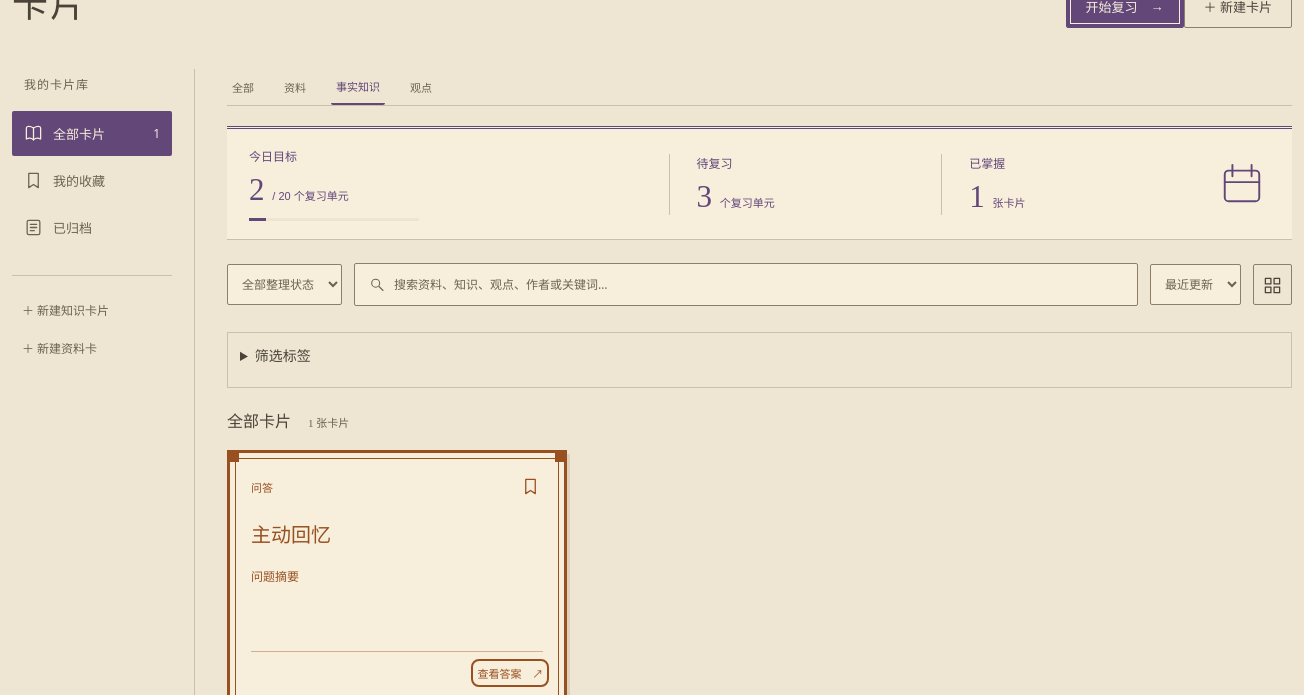
it: knowledge hides answers until an explicit keyboard or touch action and labels real units
The image size is (1304, 695).
Expected: the link "主动回忆" is shown, [251, 524, 331, 546]
Expected: the text "独立于列表的真实答案" is not shown
Step 1. Click the button "查看答案 ↗" → (510, 672), box [478, 664, 543, 680]
(page scrolled)
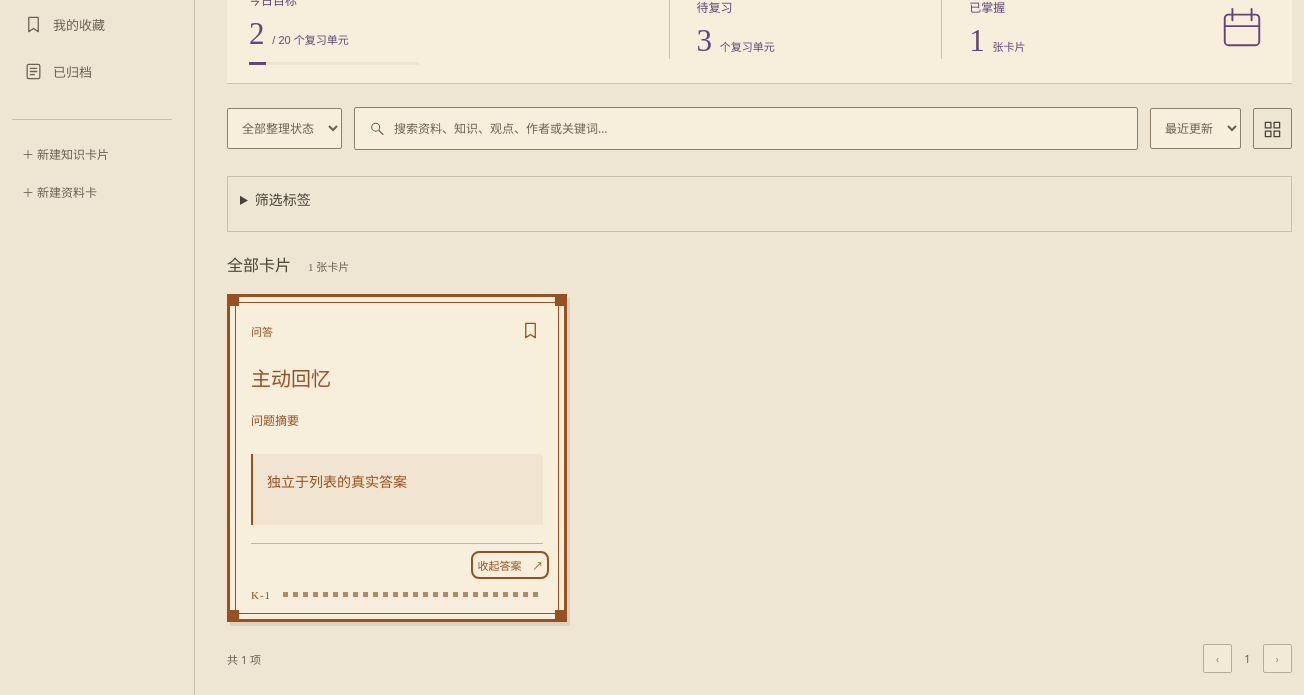
Expected: the text "个复习单元" is shown 2 times, [272, 34, 349, 46]; [720, 40, 775, 52]
Expected: the text "独立于列表的真实答案" is shown, [267, 472, 407, 491]
Step 2. Click the button "收起答案 ↗" → (510, 565), box [478, 557, 543, 573]
(page scrolled)
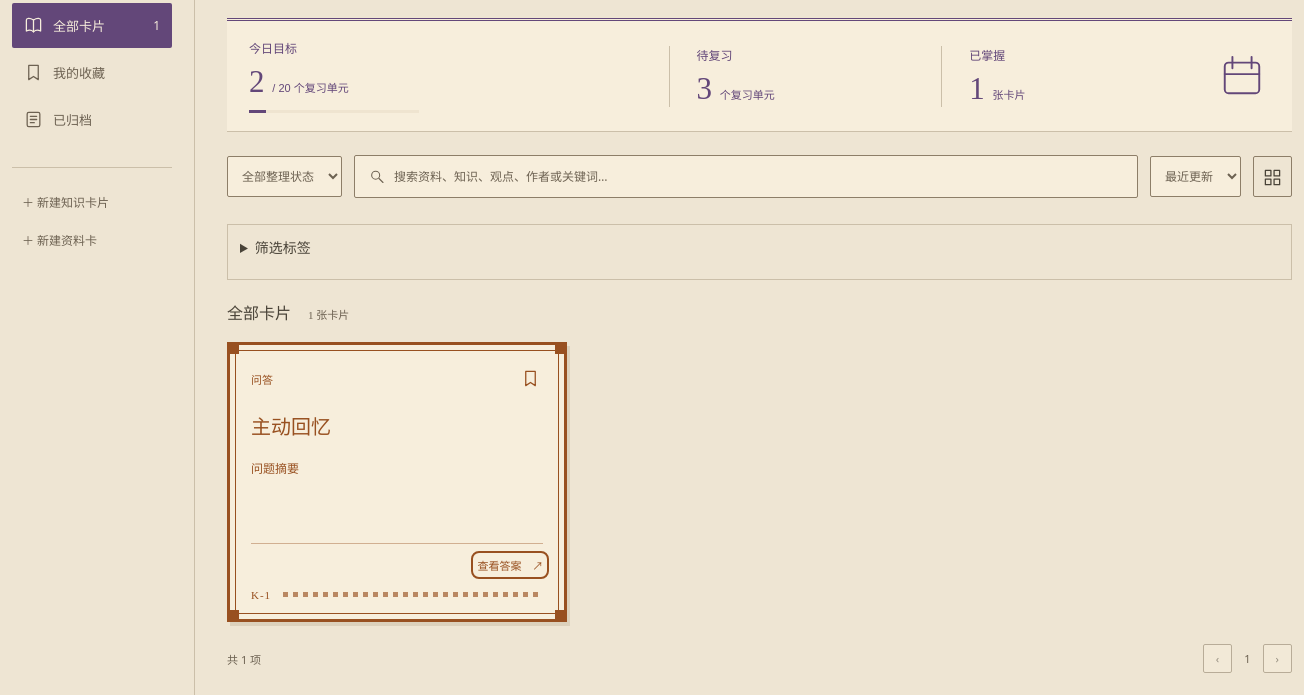
Expected: the text "独立于列表的真实答案" is gone
